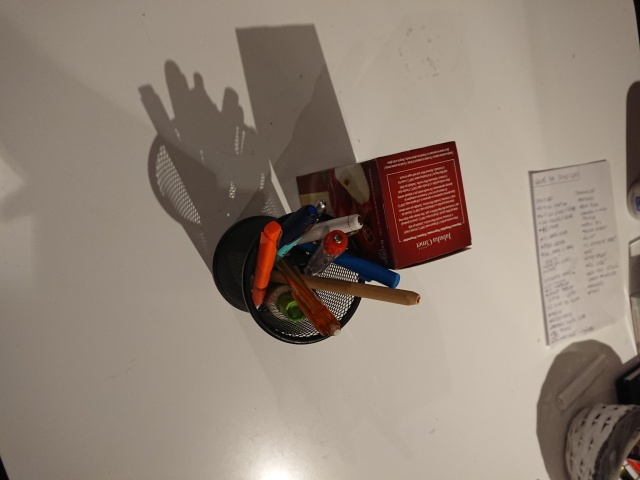Franck Apple Cinnamon Tea 60g: (292, 137, 476, 273)
